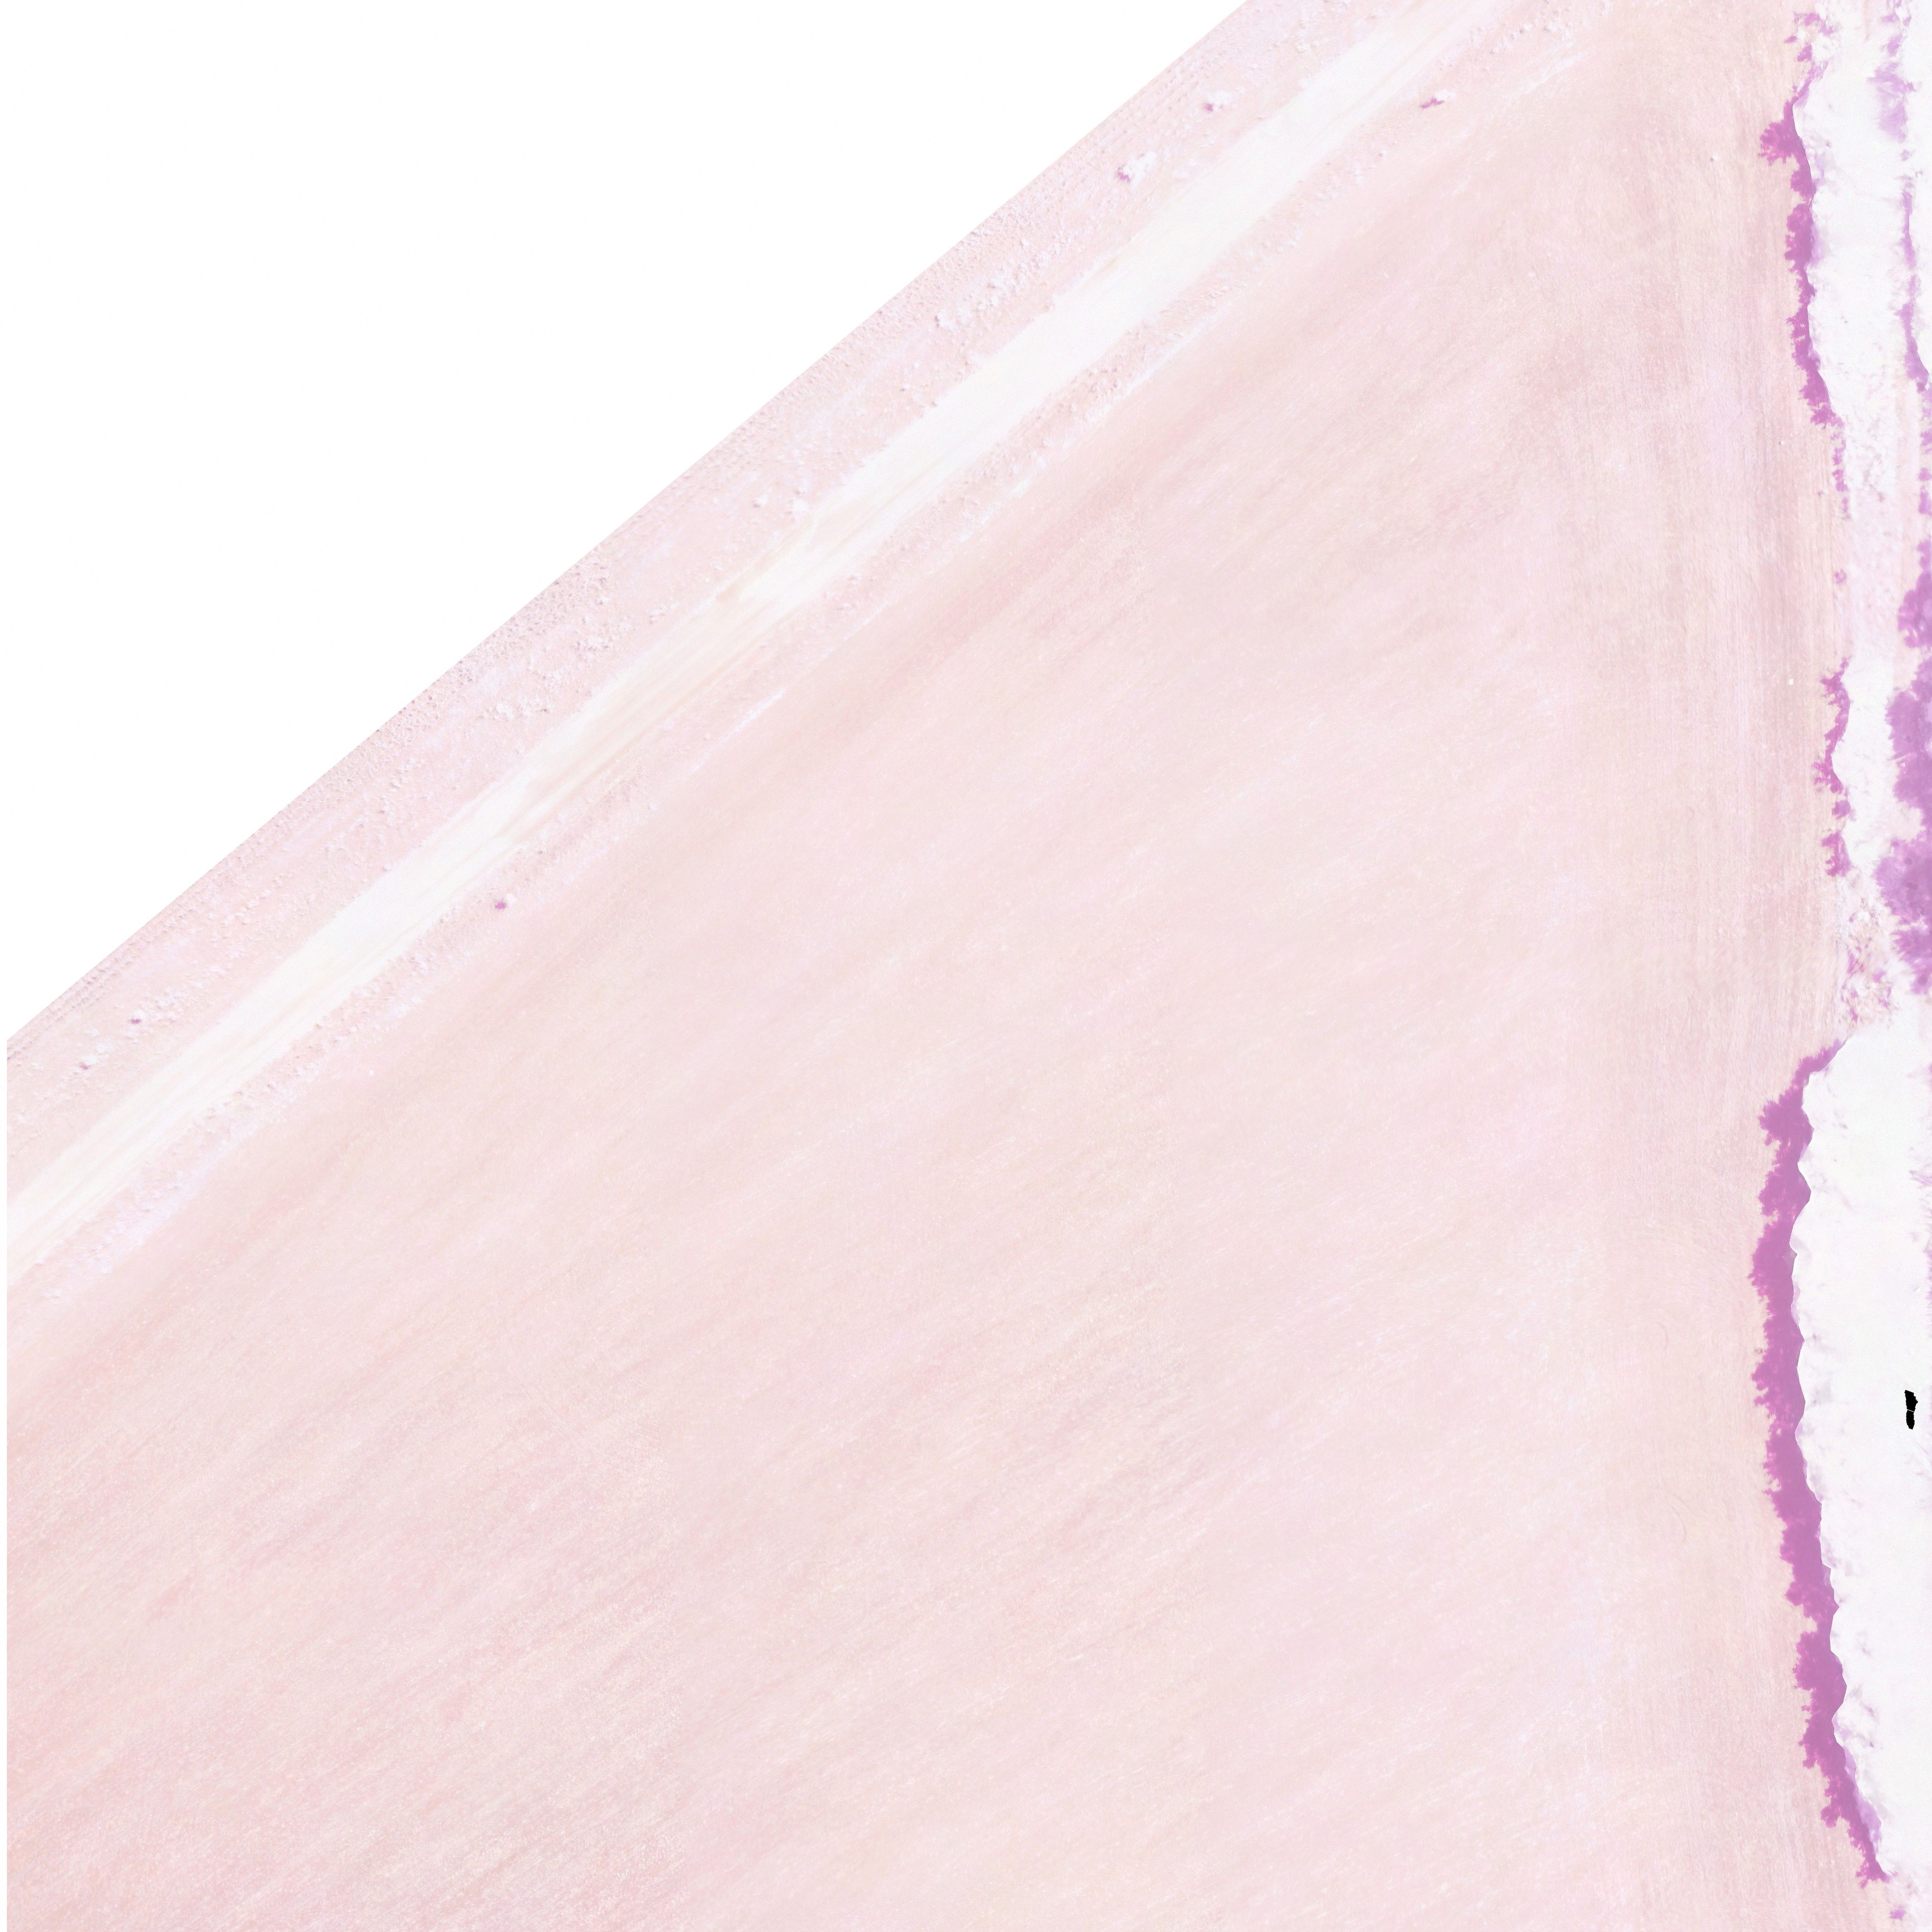tree: (1780, 67, 1893, 456), (1755, 1062, 1893, 1283), (1752, 1290, 1907, 1481), (1767, 1488, 1923, 1652), (1790, 1661, 1918, 1828), (1819, 648, 1895, 885), (1847, 1838, 1921, 1881)
